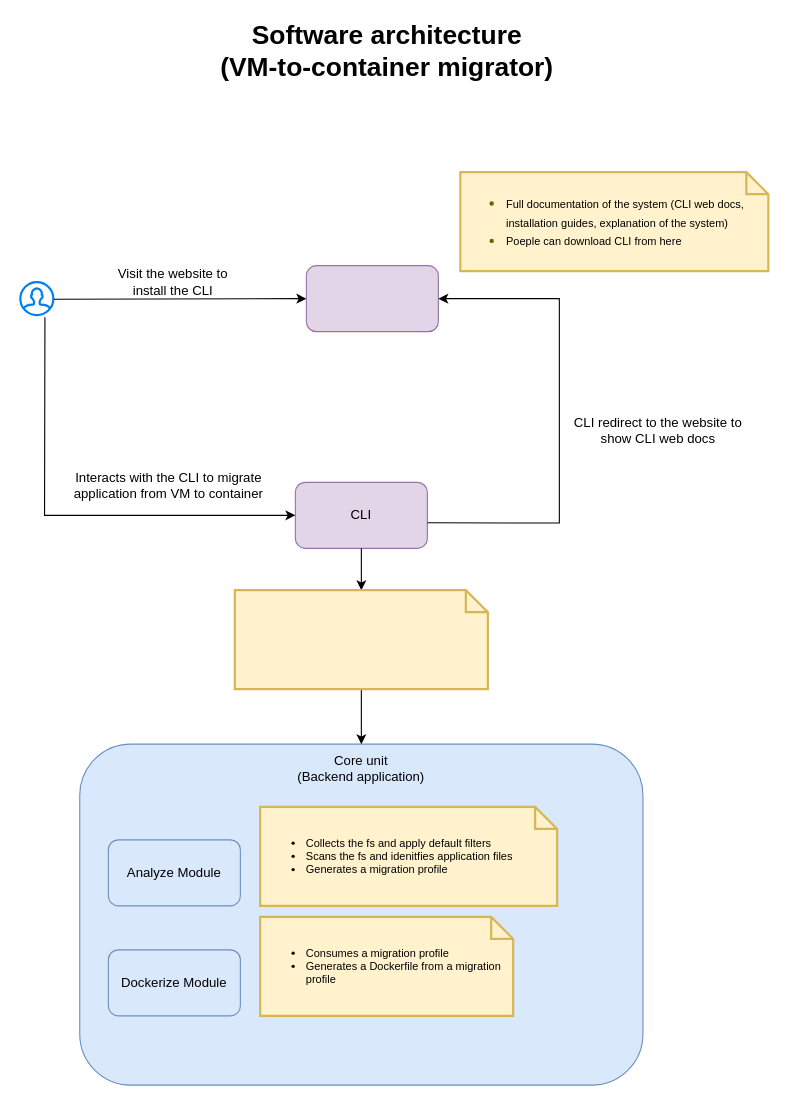
The diagram is 788 pixels wide and 1104 high, and some of its shapes have lost their labels. The centre of each missing label's shape, as x and y in pixels:
"Send requests for two main features: Analyze Dockerize" belongs at (x=360, y=639).
"System Website" belongs at (x=371, y=298).
